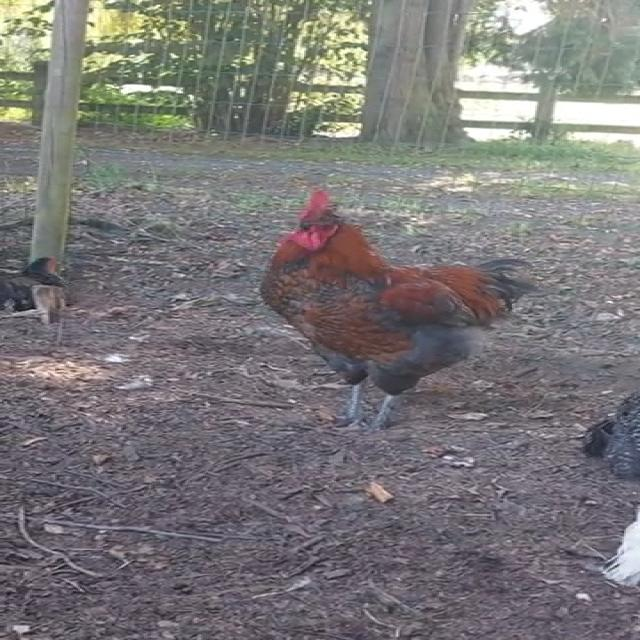walking: (231, 170, 526, 438)
